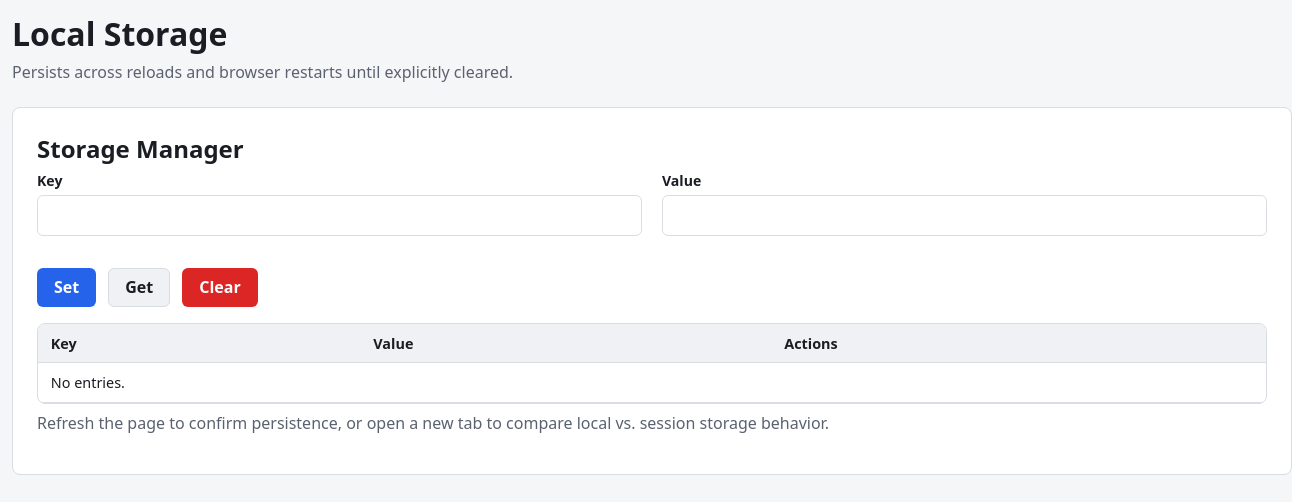
Test: Local Storage module › clears all entries
Type "a" into the field with test id "local-storage-key".
click(340, 216); type("a")  # box [37,195,642,236]
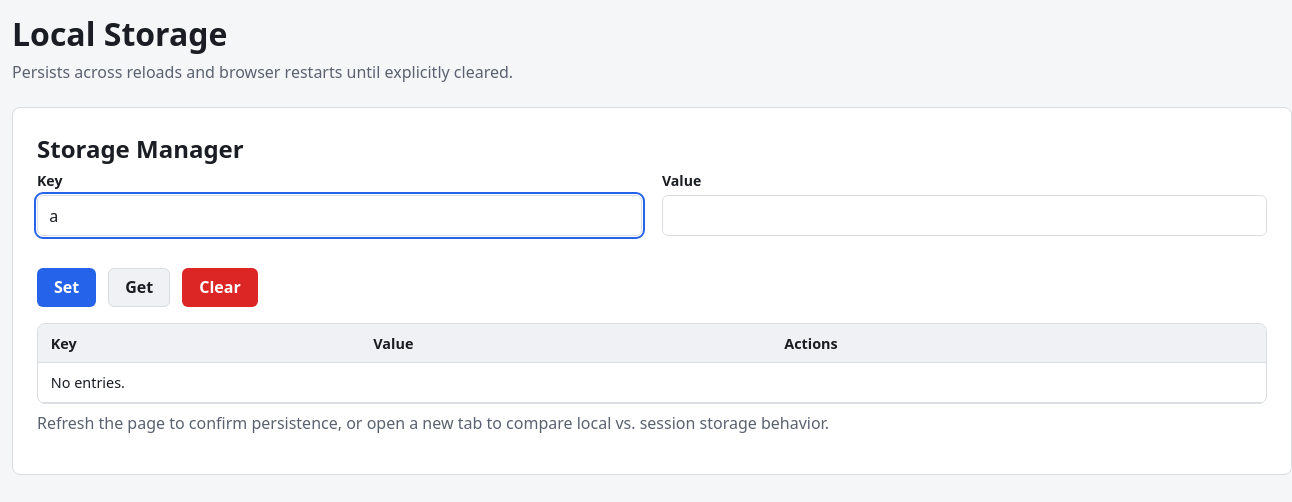
Type "b" into the field with test id "local-storage-value".
click(964, 216); type("b")  # box [662,195,1267,236]
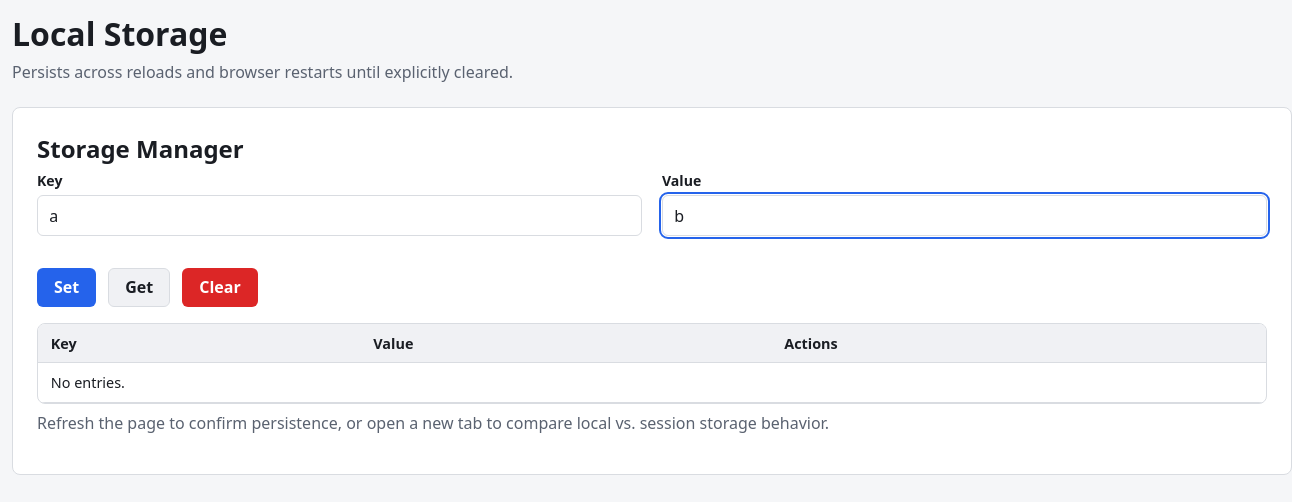
Click the button with test id "local-storage-set".
click(67, 288)  # box [37,268,96,307]
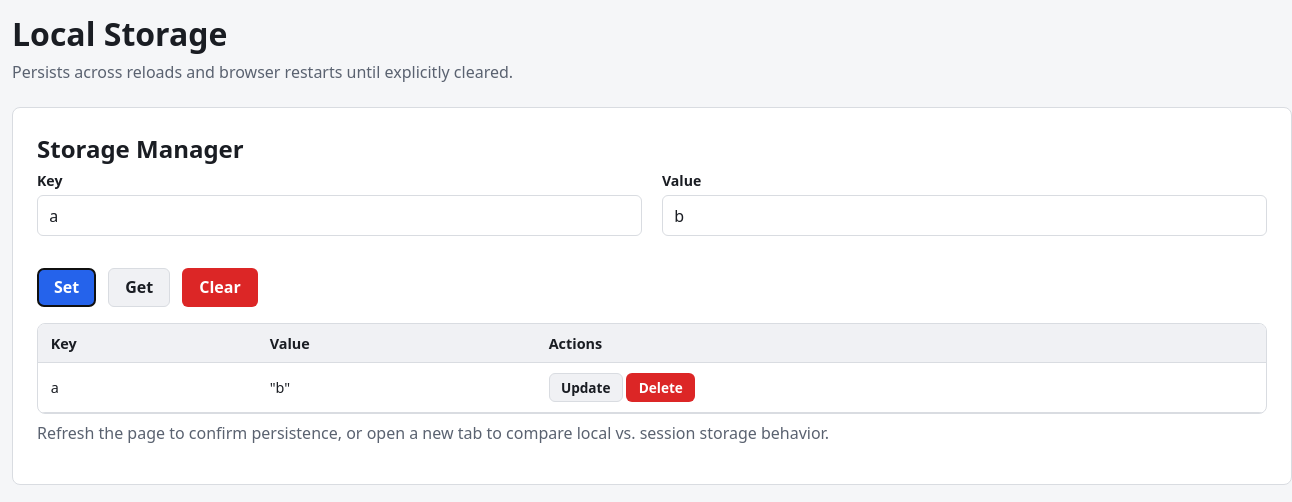
Expected: the row with test id "local-storage-row-a" is shown, [38,363,1266,412]
Click the button with test id "local-storage-clear".
click(220, 288)  # box [182,268,258,307]
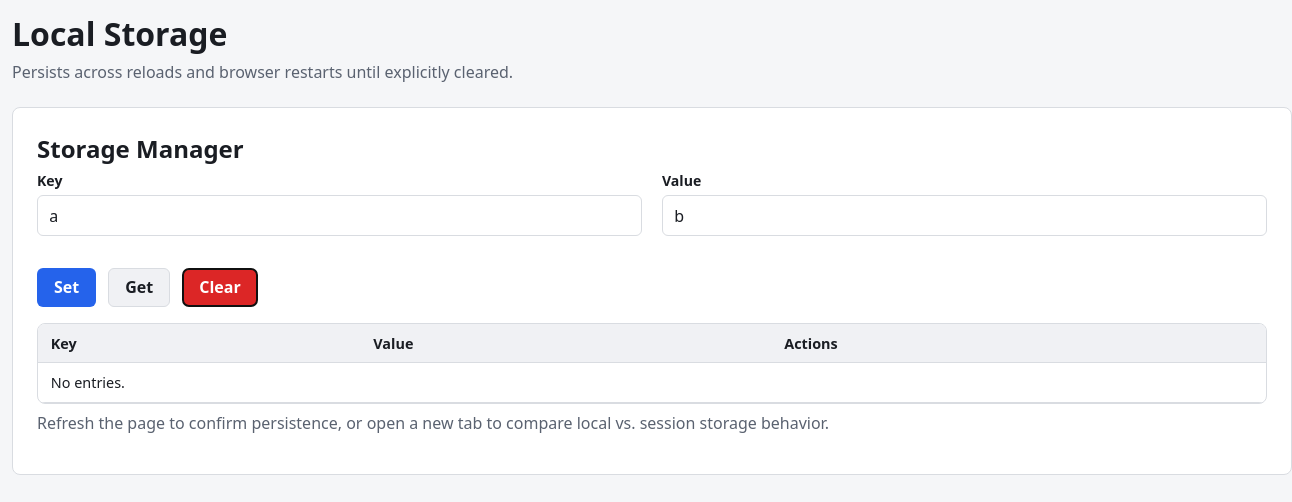
Expected: the cell with test id "local-storage-empty" is shown, [38,363,1266,402]
